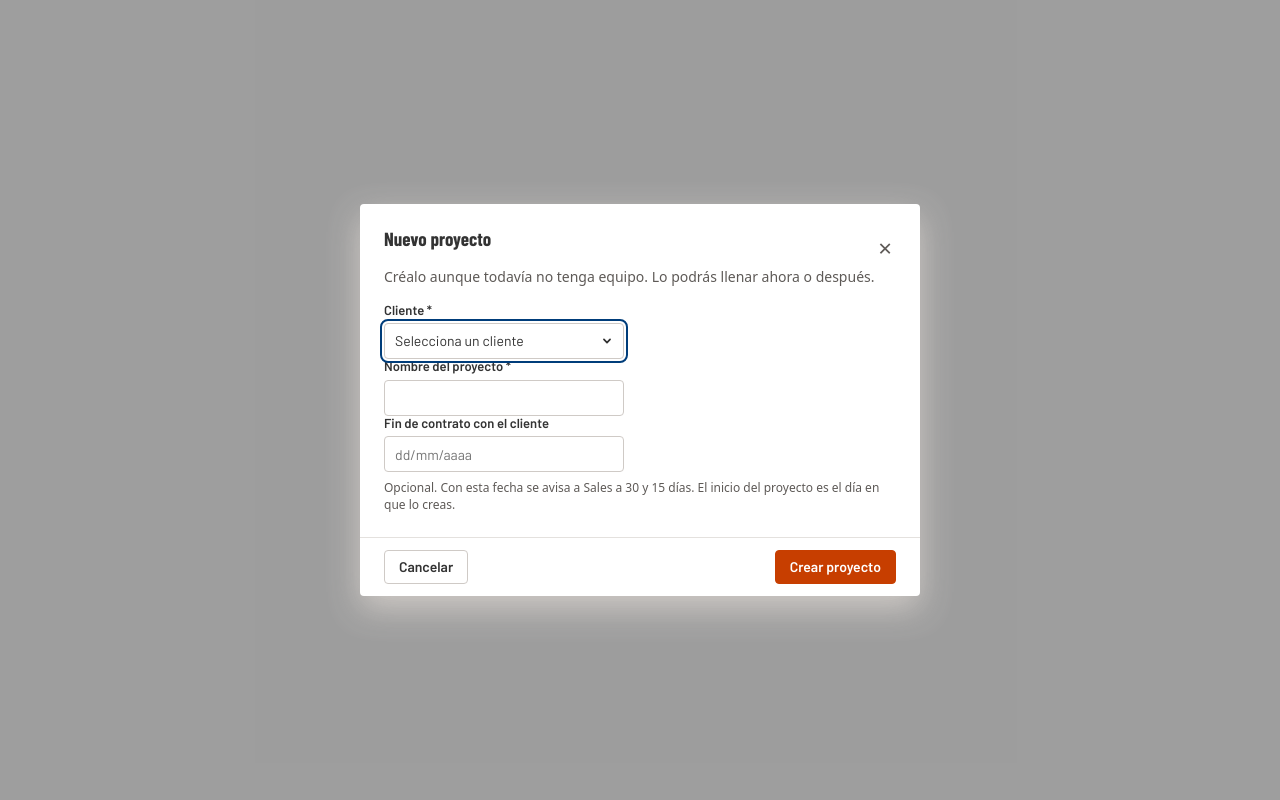
Test case: NewProjectModal › shows a permission error from the API
The image size is (1280, 800).
Select "Aurora" in the dropdown labelled "Cliente *". click: (504, 341)
box: [384,323,624,359]
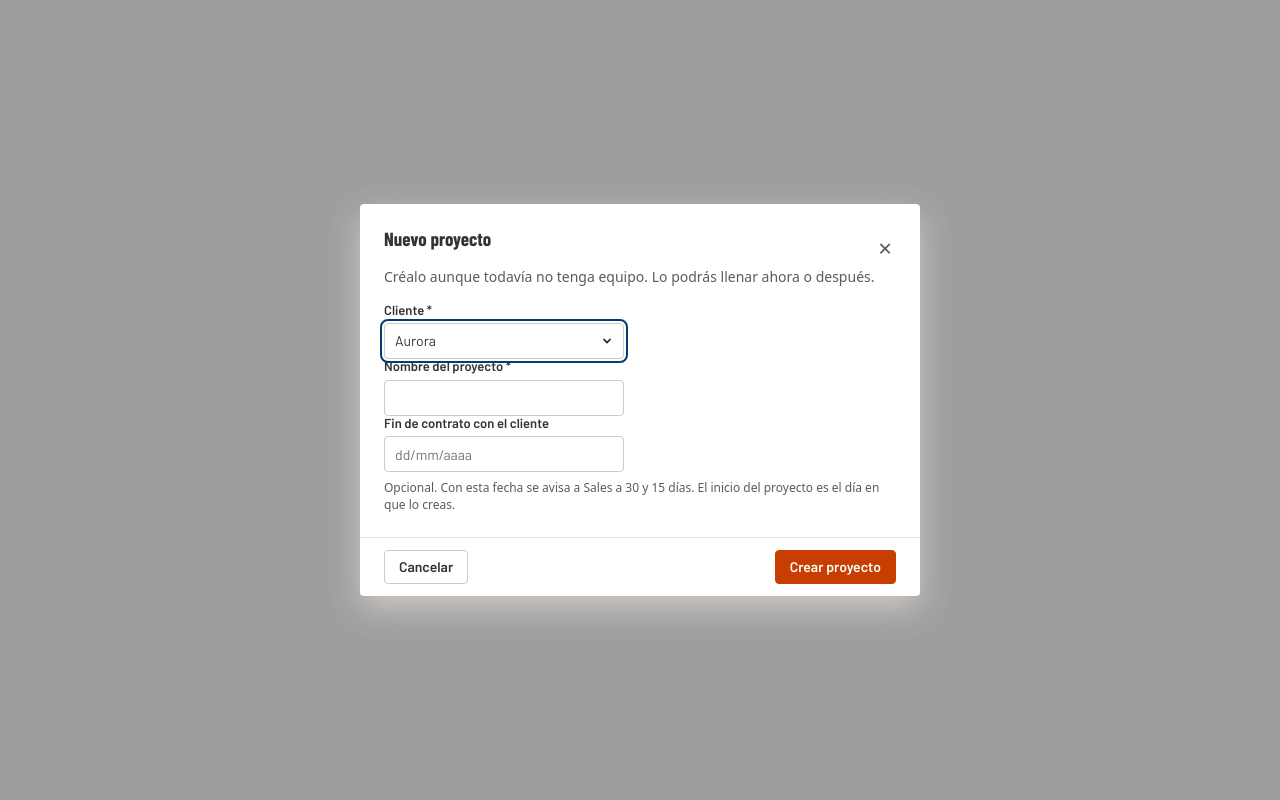
Type "Nuevo" into the field labelled "Nombre del proyecto *". click: (504, 398)
box: [384,380,624,416]
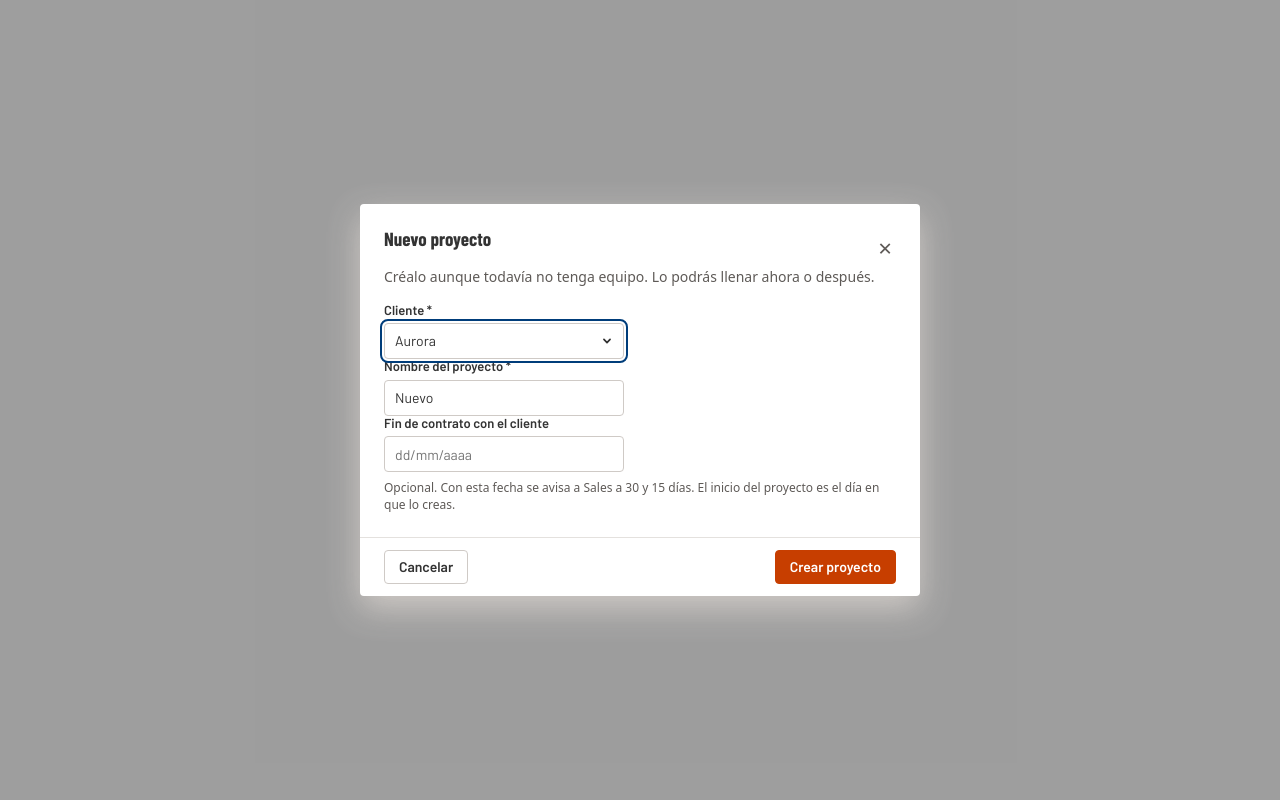
Click the button "Crear proyecto". click: (835, 567)
box: [775,550,896,584]
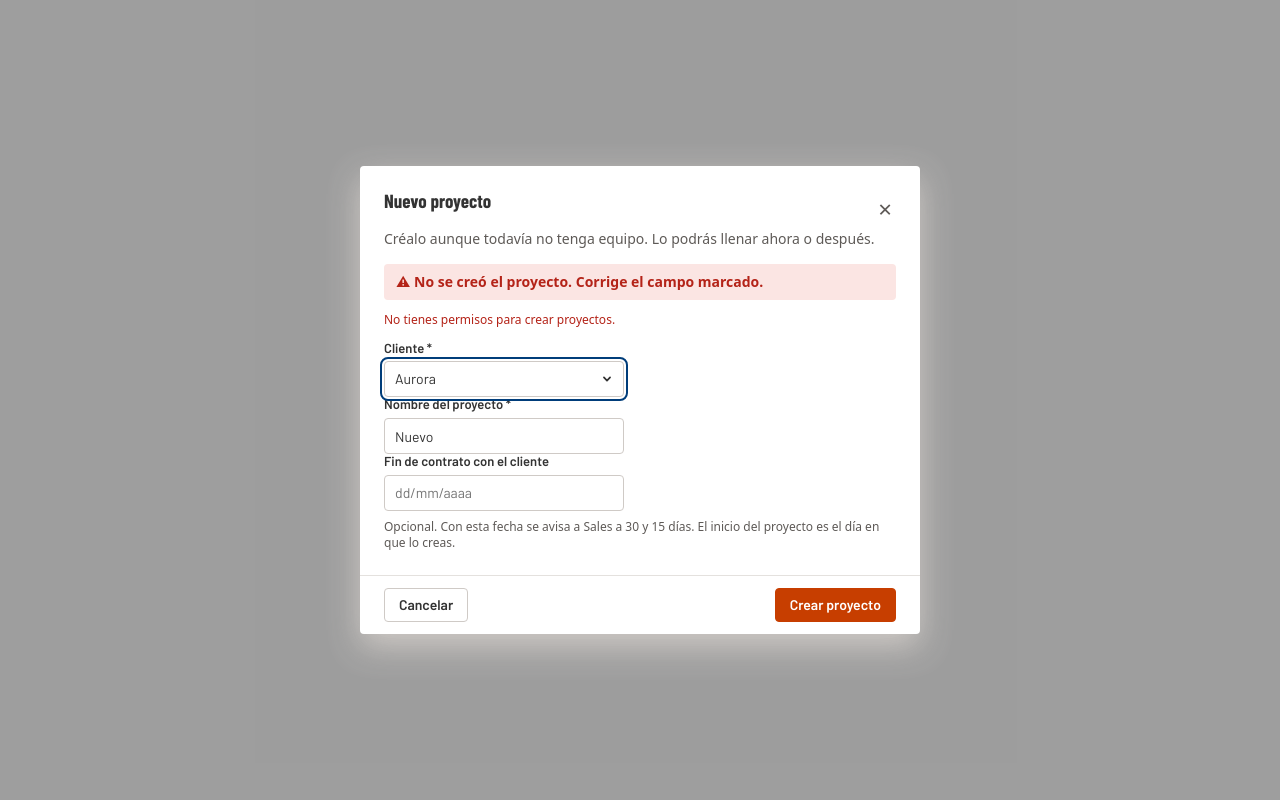
Now the message shows "No se creó el proyecto. Corrige el campo marcado.", box [396,272,763,291]
Now the text "No tienes permisos para crear proyectos." is shown, box [384,311,615,328]
